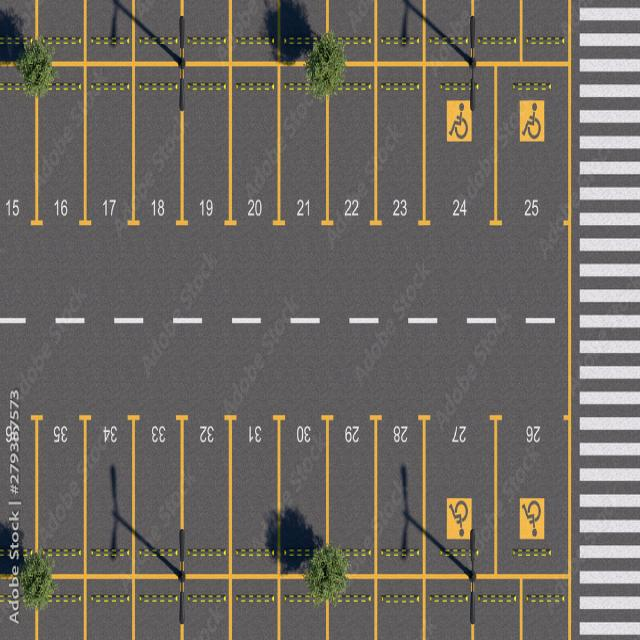discapacitados: (426, 408, 567, 582), (429, 91, 566, 229)
libre: (0, 405, 424, 576), (1, 84, 425, 230)
